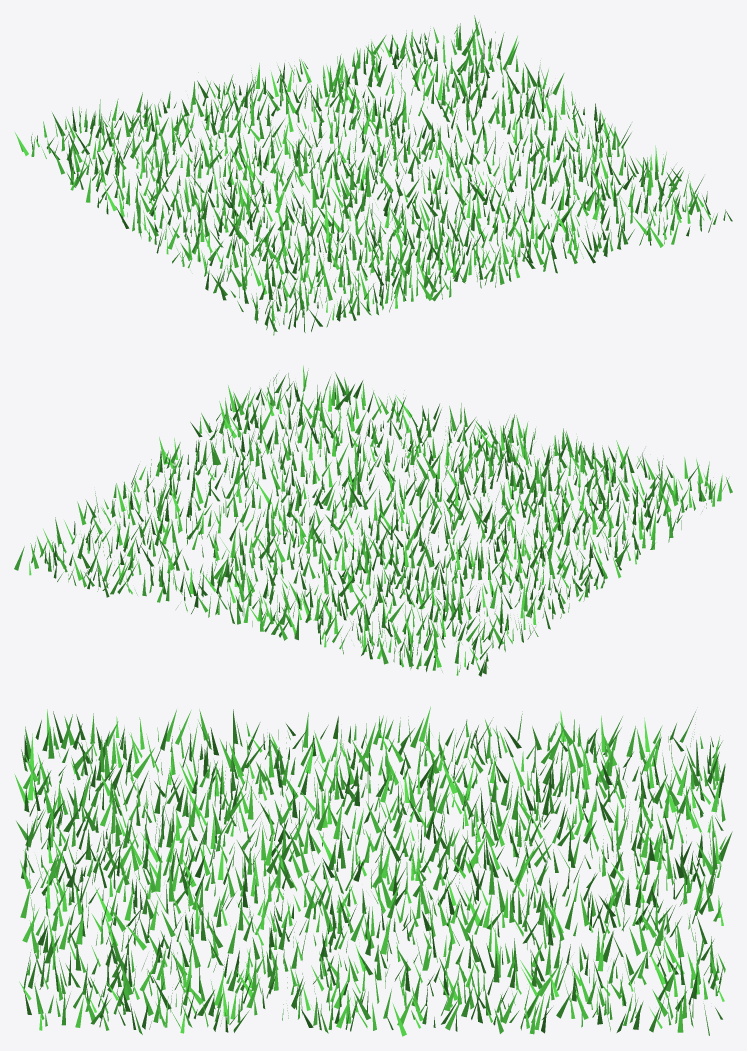
The model's file is Grass.fbx.
3 views of the same model, one above another, from view 1: azimuth 30°, elevation 25°; view 2: azimuth 150°, elevation 25°; view 3: azimuth 270°, elevation 25° (orthographic). The views are drawn at different scales.
Visible parts, largest first — view 1: Cube; view 2: Cube; view 3: Cube.
Part boxes in pixels (x1,y1,x2,y2): Cube: (15,15,732,335); Cube: (14,365,732,676); Cube: (14,706,732,1036).
Size of the model in its own units: 206 by 11.56 by 205.
